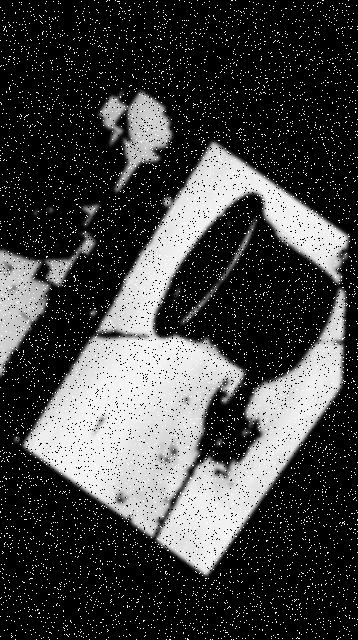pot: (152, 191, 334, 379)
